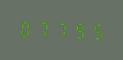five: (86, 20, 102, 41)
nine: (69, 20, 85, 40)
seven: (52, 19, 68, 40), (35, 19, 51, 39)
zero: (18, 18, 34, 39)
